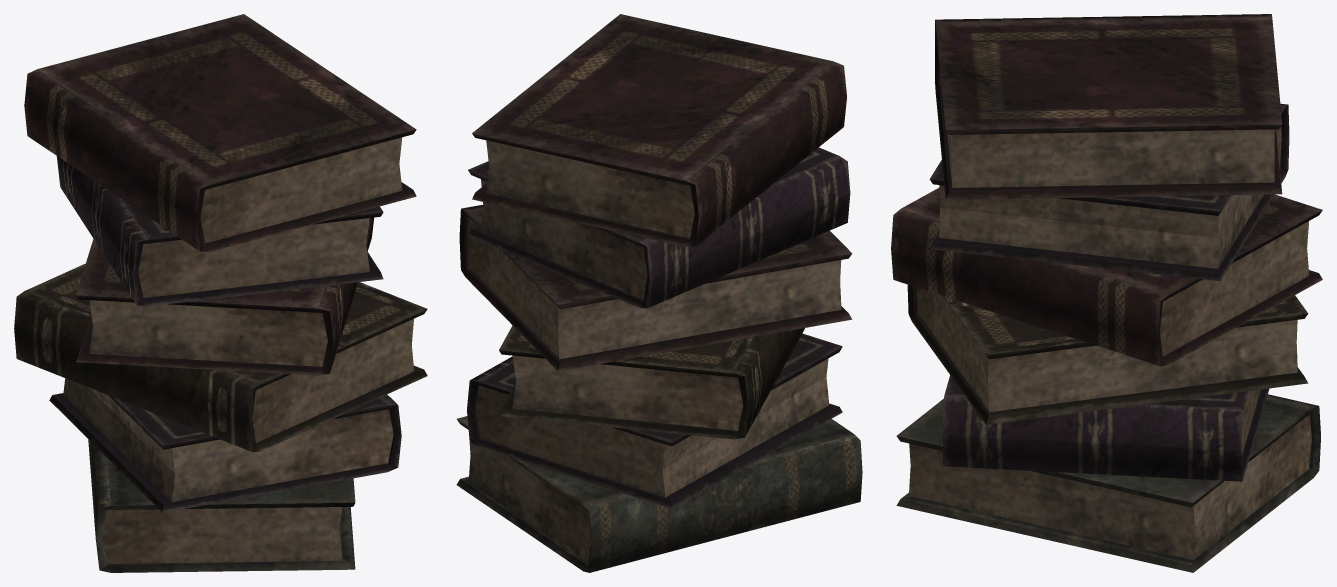
Rendered from book_pile02.dae.
3 renders of one model, left to right at view 1: azimuth 30°, elevation 25°; view 2: azimuth 150°, elevation 25°; view 3: azimuth 270°, elevation 25°, orthographic. The views are drawn at different scales.
Parts seen in each view (by area): view 1: polySurface8; view 2: polySurface8; view 3: polySurface8.
Part boxes in pixels (x1,y1,x2,y2): polySurface8: [14, 14, 427, 572]; polySurface8: [456, 14, 862, 572]; polySurface8: [891, 14, 1322, 572].
Bounding box in the file's own units: 0.436 × 0.48 × 0.4488.
